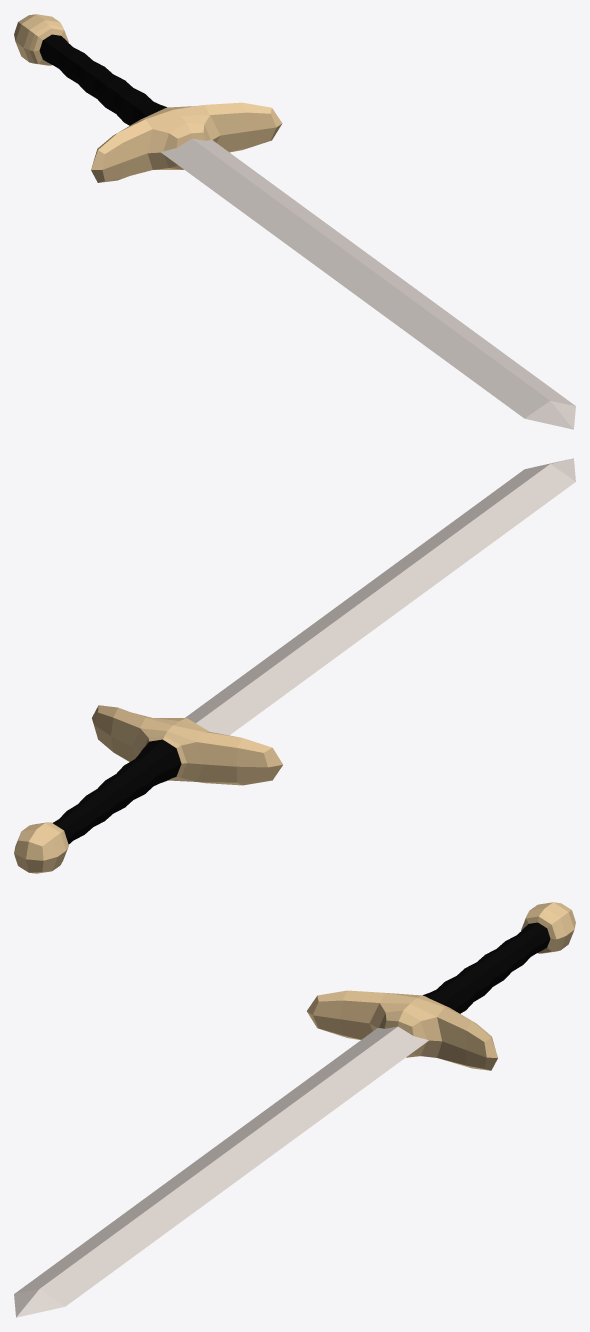
The model's file is Sword.fbx.
3 renders of one model, top to bottom at view 1: azimuth 30°, elevation 25°; view 2: azimuth 150°, elevation 25°; view 3: azimuth 330°, elevation 25°, orthographic.
Visible parts, largest first — view 1: Cube, Cube.001; view 2: Cube, Cube.001; view 3: Cube, Cube.001.
Boxes of the visible parts, box(x1,y1,x2,y2) form: Cube: box(161, 138, 575, 429); Cube.001: box(14, 14, 282, 182); Cube: box(185, 458, 575, 735); Cube.001: box(14, 705, 282, 873); Cube: box(14, 1026, 428, 1317); Cube.001: box(307, 902, 575, 1070).
Size of the model in its own units: 744 by 196 by 3688.
